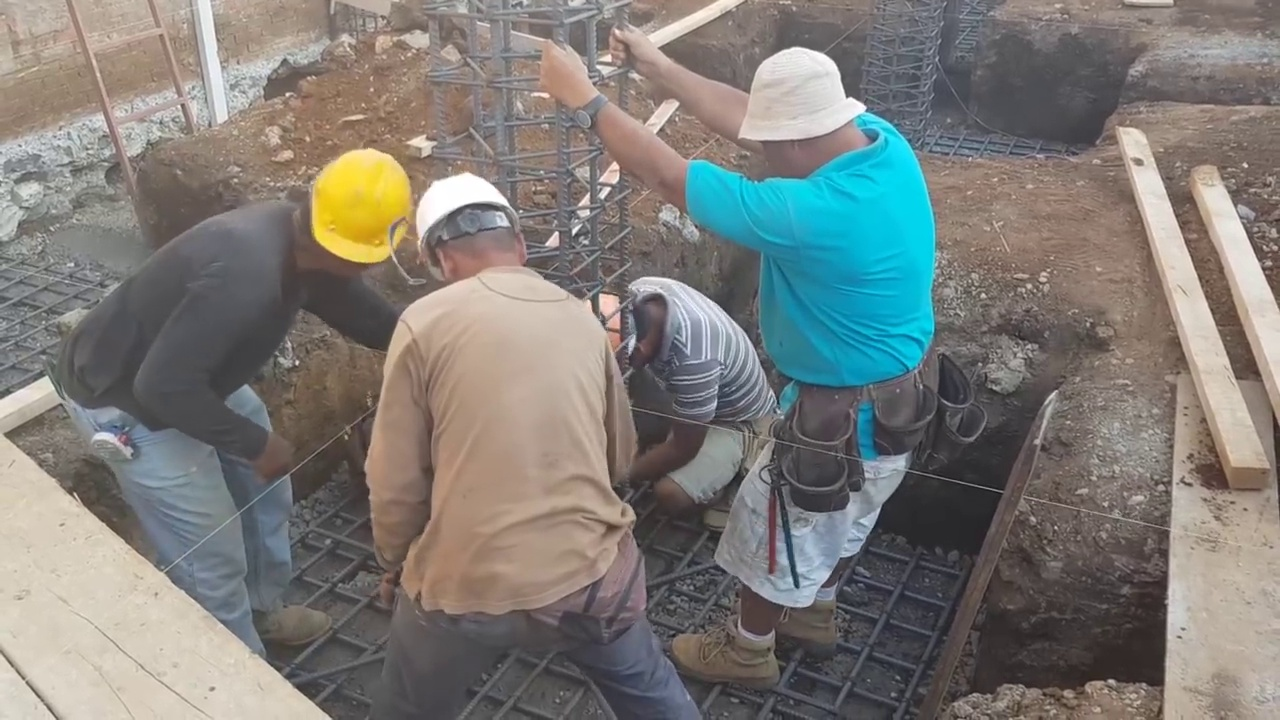helmet: (304, 150, 406, 255), (411, 169, 517, 261), (583, 286, 628, 362)
helmet-off: (734, 46, 876, 182)
helmet-on: (283, 145, 409, 277), (410, 164, 528, 289), (582, 282, 671, 374)
person: (582, 36, 920, 675), (75, 140, 412, 658), (340, 165, 664, 703), (600, 281, 777, 541)
